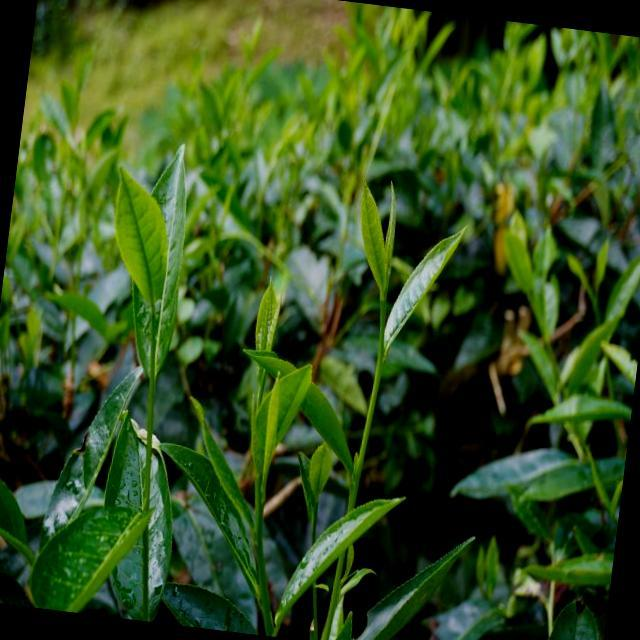Stem: (149, 387, 154, 398), (377, 360, 383, 369)
